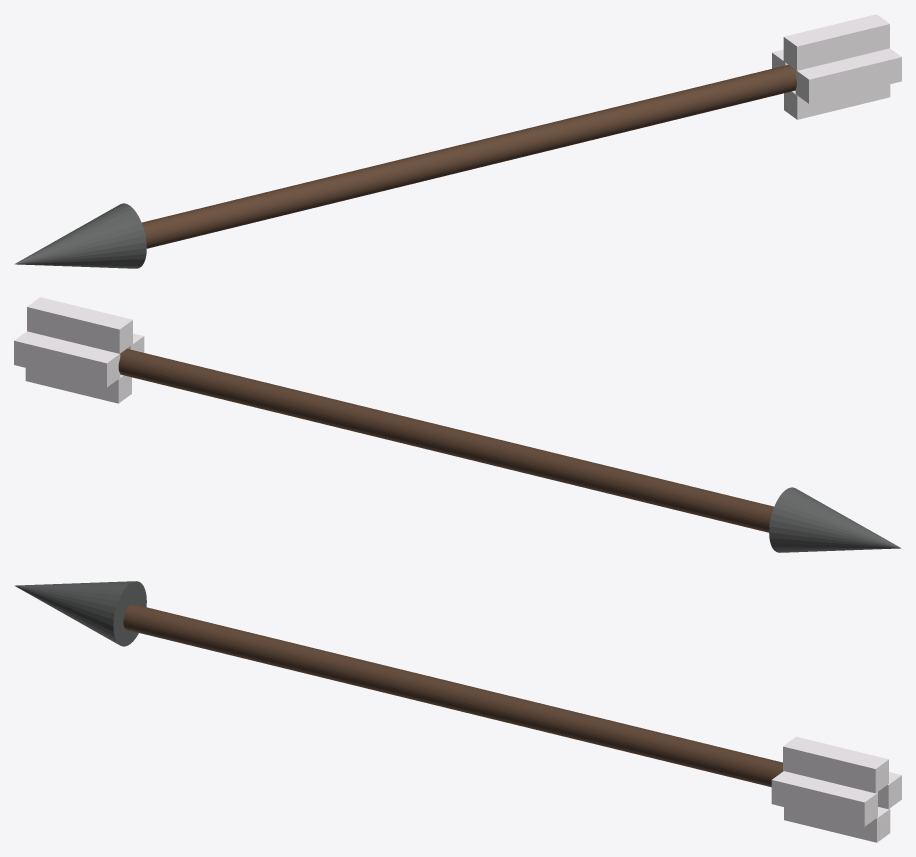
Rendered from Arrow.fbx.
3 renders of one model, top to bottom at view 1: azimuth 30°, elevation 25°; view 2: azimuth 150°, elevation 25°; view 3: azimuth 330°, elevation 25°, orthographic.
Parts seen in each view (by area): view 1: Cylinder, Cone, Cube.002, Cube, Cube.003; view 2: Cylinder, Cone, Cube.002, Cube.001, Cube.003; view 3: Cylinder, Cone, Cube.002, Cube, Cube.003, Cube.001.
Part boxes in pixels (x1=…): Cylinder: x1=142, y1=65, x2=796, y2=248; Cone: x1=14, y1=203, x2=146, y2=268; Cube.002: x1=783, y1=14, x2=889, y2=70; Cube: x1=795, y1=48, x2=901, y2=103; Cube.003: x1=784, y1=84, x2=890, y2=119; Cylinder: x1=118, y1=348, x2=773, y2=532; Cone: x1=769, y1=487, x2=901, y2=552; Cube.002: x1=27, y1=297, x2=132, y2=353; Cube.001: x1=14, y1=331, x2=120, y2=387; Cube.003: x1=25, y1=368, x2=131, y2=403; Cylinder: x1=123, y1=604, x2=783, y2=787; Cone: x1=14, y1=581, x2=146, y2=646; Cube.002: x1=783, y1=736, x2=888, y2=793; Cube: x1=771, y1=771, x2=877, y2=826; Cube.003: x1=784, y1=807, x2=890, y2=842; Cube.001: x1=877, y1=772, x2=901, y2=809.
Bounding box in the file's own units: 749 × 60.8 × 55.65.
